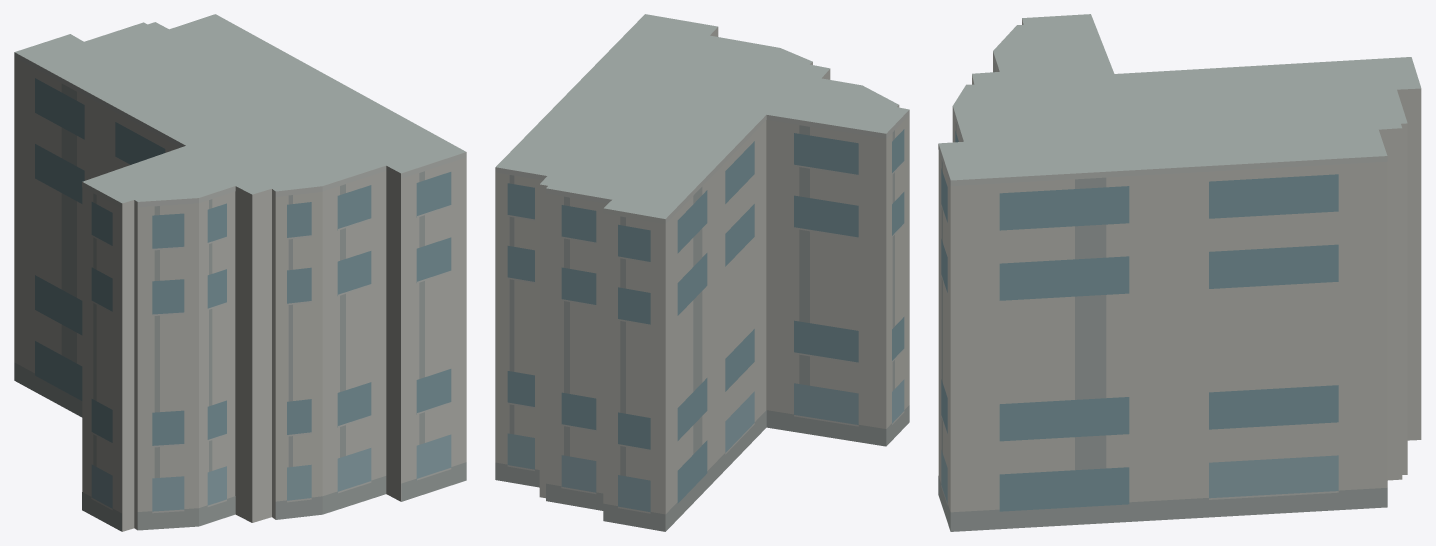
The model's file is survey-upis-33046616.glb.
The picture shows the model from 3 angles, left to right: view 1: azimuth 30°, elevation 25°; view 2: azimuth 150°, elevation 25°; view 3: azimuth 270°, elevation 25°; orthographic projection. The views are drawn at different scales.
Visible parts, largest first — view 1: survey-upis-33046616.tmp; view 2: survey-upis-33046616.tmp; view 3: survey-upis-33046616.tmp.
Part boxes in pixels (left/top/right/bottom): survey-upis-33046616.tmp: left=14, top=14, right=466, bottom=531; survey-upis-33046616.tmp: left=495, top=14, right=909, bottom=531; survey-upis-33046616.tmp: left=938, top=14, right=1421, bottom=531.
Bounding box in the file's own units: 14.94 × 14.7 × 18.32.
